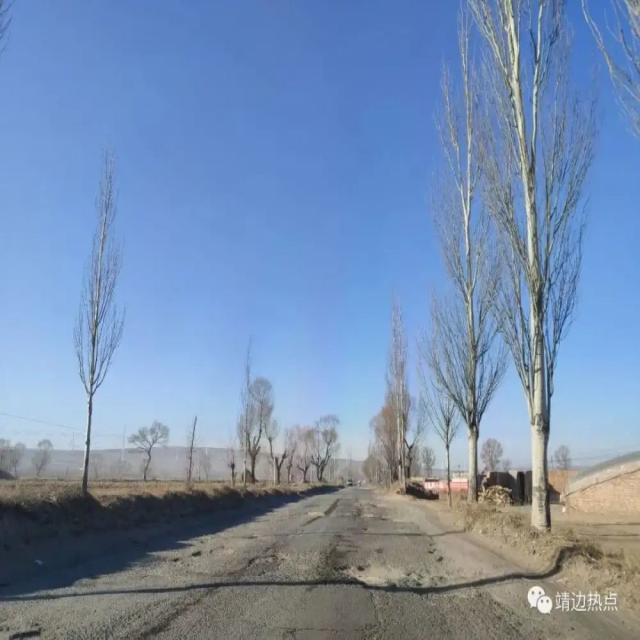Pothole: (334, 563, 472, 598), (305, 507, 417, 525), (245, 548, 284, 578), (188, 545, 231, 558)
